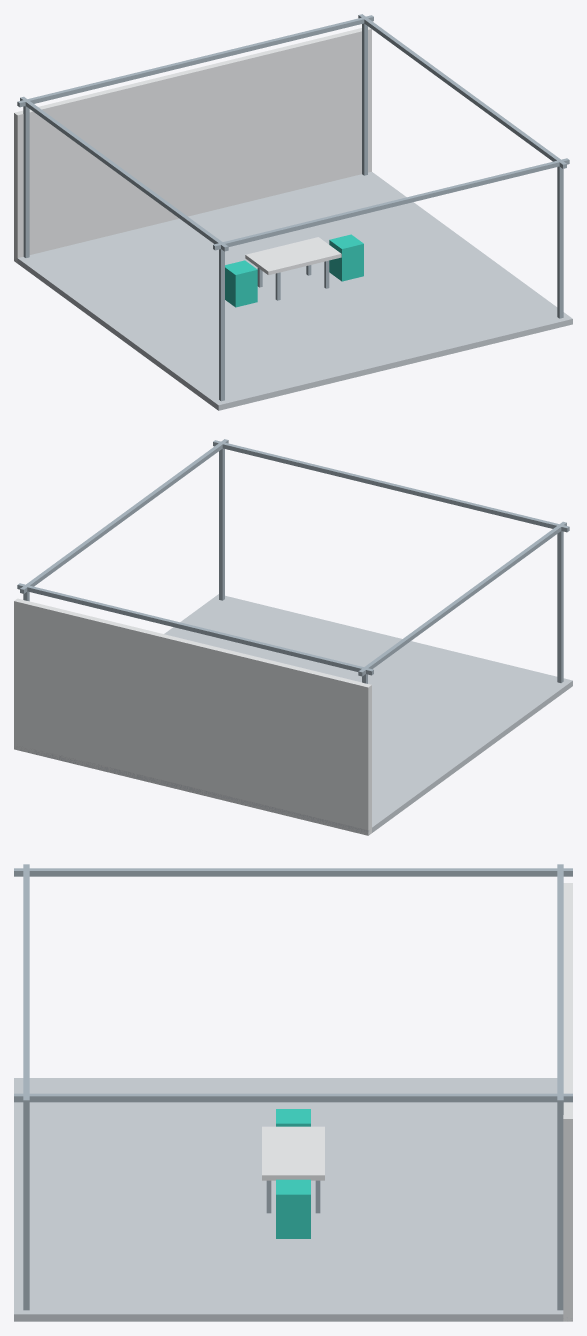
3 renders of one model, top to bottom at view 1: azimuth 30°, elevation 25°; view 2: azimuth 150°, elevation 25°; view 3: azimuth 270°, elevation 25°, orthographic. The views are drawn at different scales.
Parts seen in each view (by area): view 1: Exhibition Booth Concept; view 2: Exhibition Booth Concept; view 3: Exhibition Booth Concept.
Boxes of the visible parts, x1,y1,x2,y2 form: Exhibition Booth Concept: (14, 14, 572, 410); Exhibition Booth Concept: (14, 439, 572, 835); Exhibition Booth Concept: (14, 864, 572, 1321).
Size of the model in its own units: 8 by 3.49 by 8.
